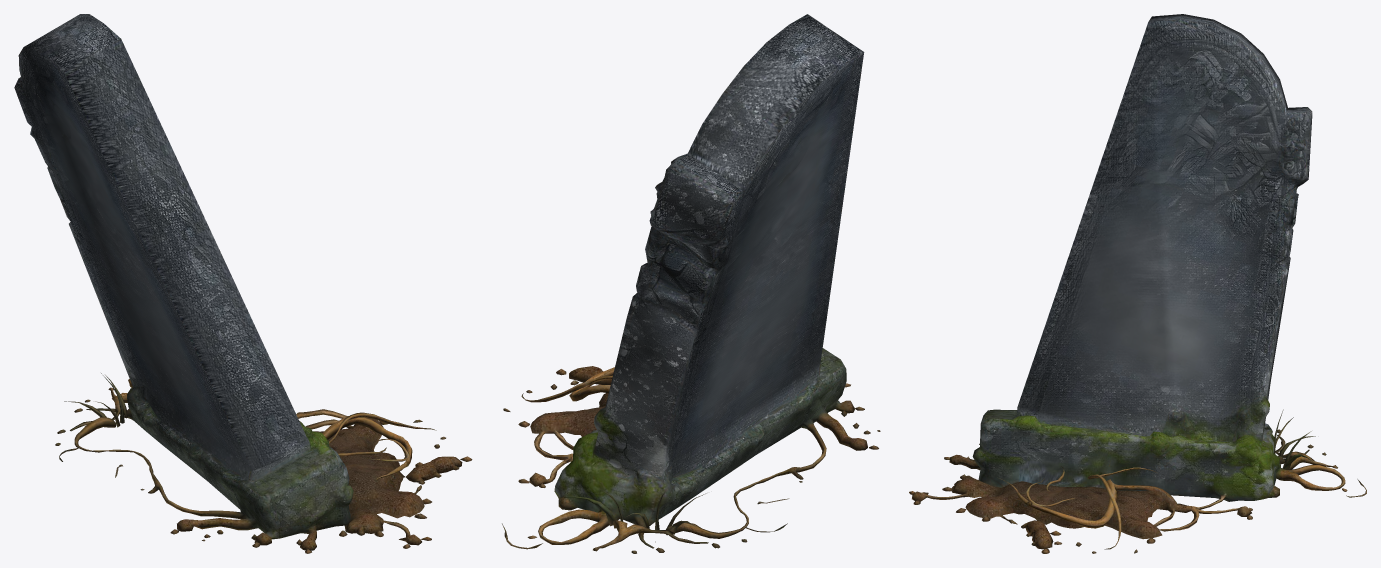
File: prop_gravestone.glb
The picture shows the model from 3 angles, left to right: view 1: azimuth 30°, elevation 25°; view 2: azimuth 150°, elevation 25°; view 3: azimuth 270°, elevation 25°; orthographic projection. The views are drawn at different scales.
Visible parts, largest first — view 1: tripo_node_306ad0af-cbaa-45f4-9c9a-bd20a9ad4400; view 2: tripo_node_306ad0af-cbaa-45f4-9c9a-bd20a9ad4400; view 3: tripo_node_306ad0af-cbaa-45f4-9c9a-bd20a9ad4400.
Boxes of the visible parts, left/top/right/bottom form: tripo_node_306ad0af-cbaa-45f4-9c9a-bd20a9ad4400: left=14, top=14, right=472, bottom=553; tripo_node_306ad0af-cbaa-45f4-9c9a-bd20a9ad4400: left=502, top=14, right=880, bottom=553; tripo_node_306ad0af-cbaa-45f4-9c9a-bd20a9ad4400: left=909, top=14, right=1366, bottom=553.
Size of the model in its own units: 0.791 by 0.9863 by 0.998.
Materials: 1 (1 with a texture image).
